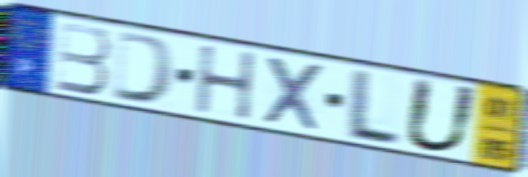B: (53, 19, 114, 97)
D: (109, 28, 178, 108)
H: (194, 43, 259, 123)
L: (341, 67, 405, 149)
U: (401, 74, 483, 155)
X: (261, 52, 326, 135)
